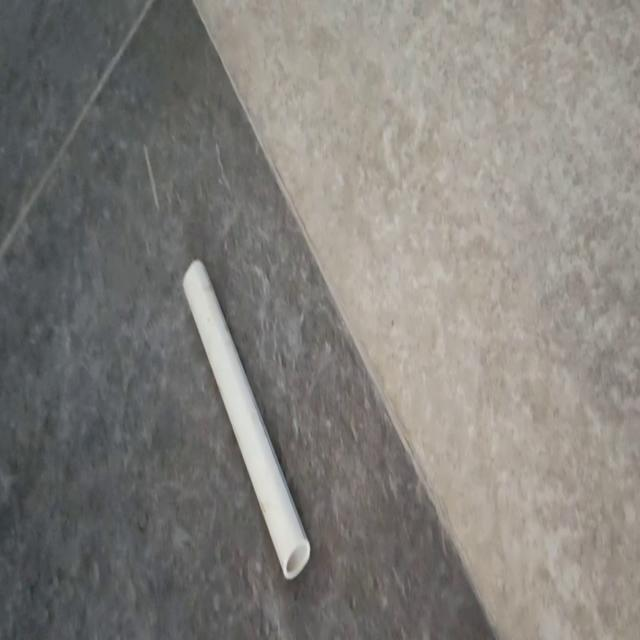Cube: (181, 256, 311, 580)
